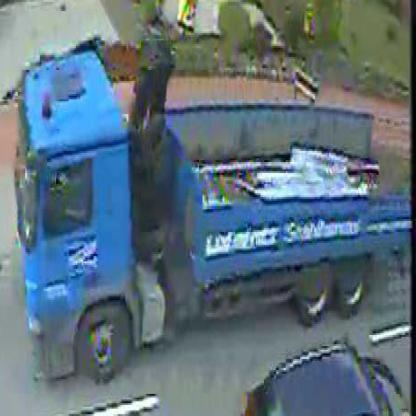truck: (16, 62, 413, 373)
